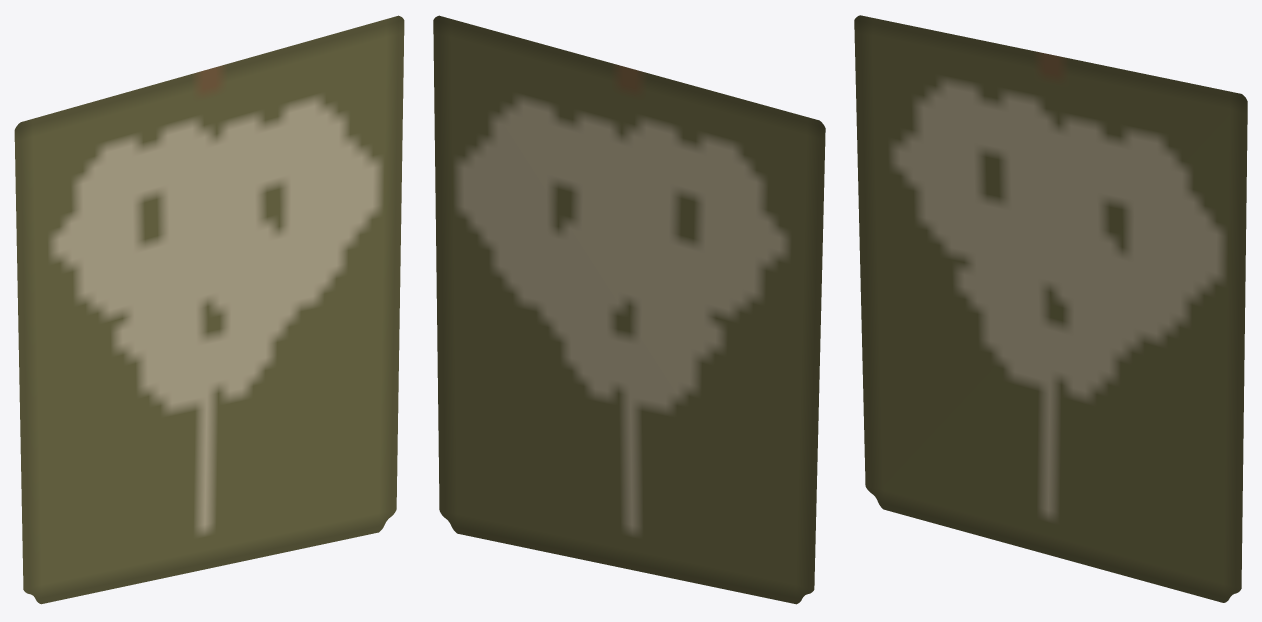
The model's file is SM_Poster_Flower.fbx.
3 renders of one model, left to right at view 1: azimuth 30°, elevation 25°; view 2: azimuth 150°, elevation 25°; view 3: azimuth 330°, elevation 25°, orthographic.
Visible parts, largest first — view 1: Poster_Flower_Visual; view 2: Poster_Flower_Visual; view 3: Poster_Flower_Visual.
Boxes of the visible parts, x1=… form: Poster_Flower_Visual: x1=14, y1=15, x2=404, y2=604; Poster_Flower_Visual: x1=433, y1=15, x2=825, y2=604; Poster_Flower_Visual: x1=854, y1=15, x2=1247, y2=602.
Bounding box in the file's own units: 0.1854 × 0.2326 × 0.00171.
